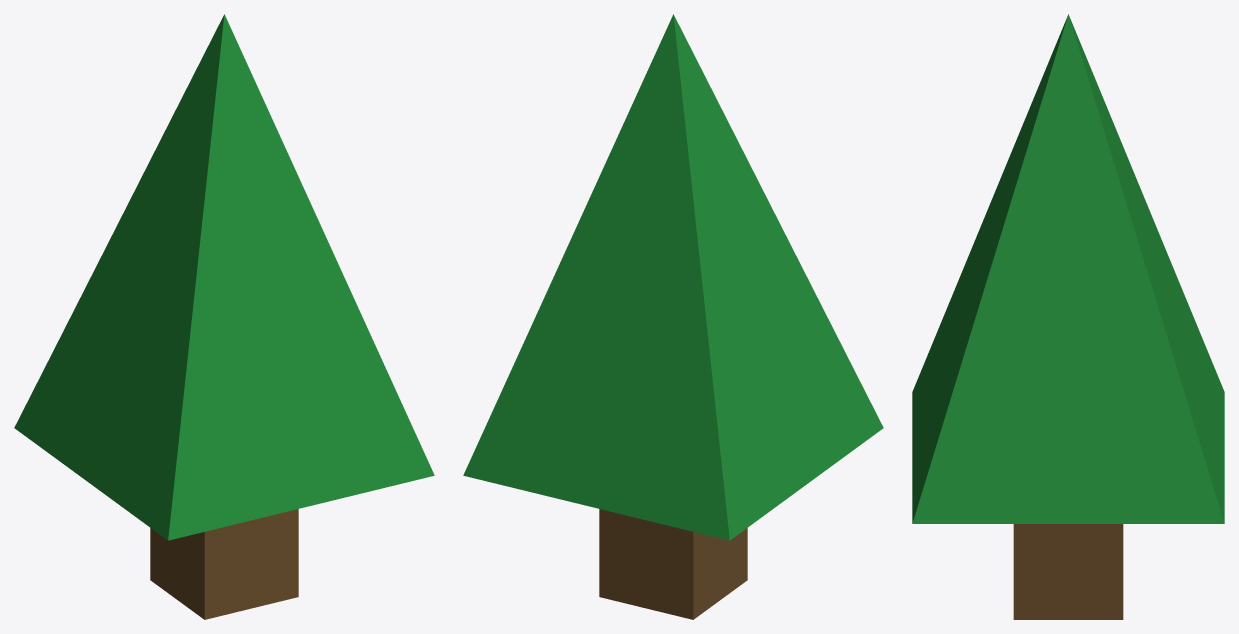
File: tree.fbx
The picture shows the model from 3 angles, left to right: view 1: azimuth 30°, elevation 25°; view 2: azimuth 150°, elevation 25°; view 3: azimuth 270°, elevation 25°; orthographic projection.
Parts seen in each view (by area): view 1: Cube; view 2: Cube; view 3: Cube.
Part boxes in pixels (box(x1,y1,x2,y2)): Cube: box(14, 14, 434, 619); Cube: box(463, 14, 883, 619); Cube: box(912, 14, 1224, 619).
Bounding box in the file's own units: 204 × 420 × 204.
